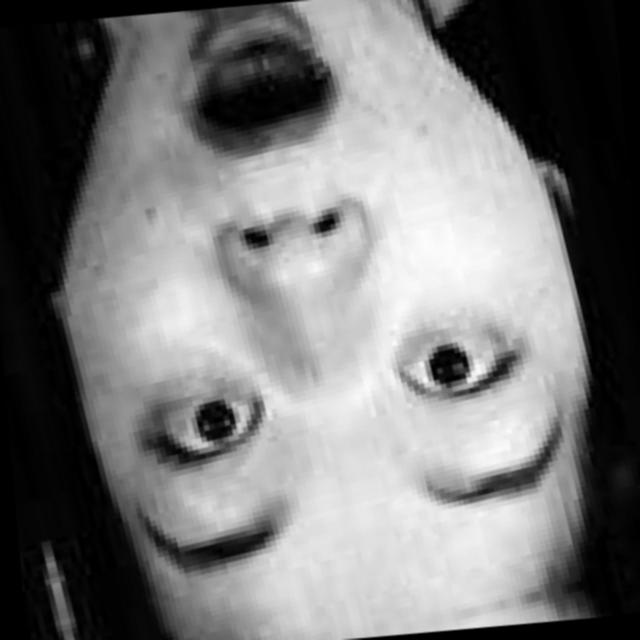surprise: (31, 0, 582, 640)
